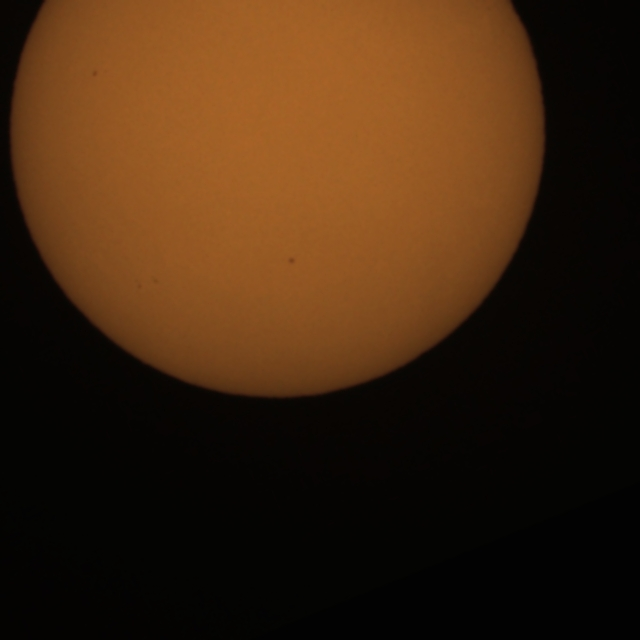sunspot: (134, 275, 160, 292), (91, 67, 109, 79), (134, 278, 144, 291), (150, 275, 160, 286), (287, 256, 297, 266), (90, 68, 99, 78)
